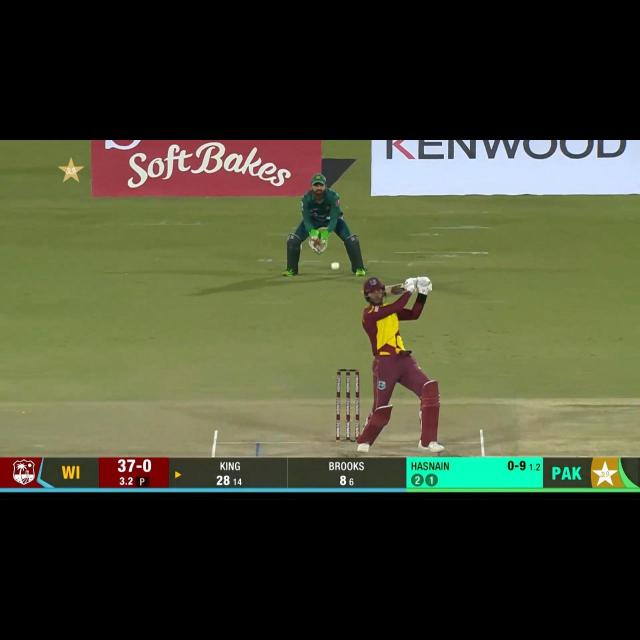bat: (384, 282, 406, 297)
